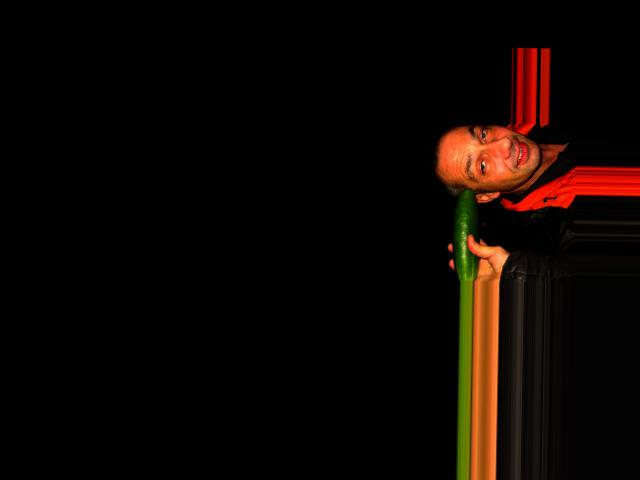cucumber: (451, 187, 480, 281)
